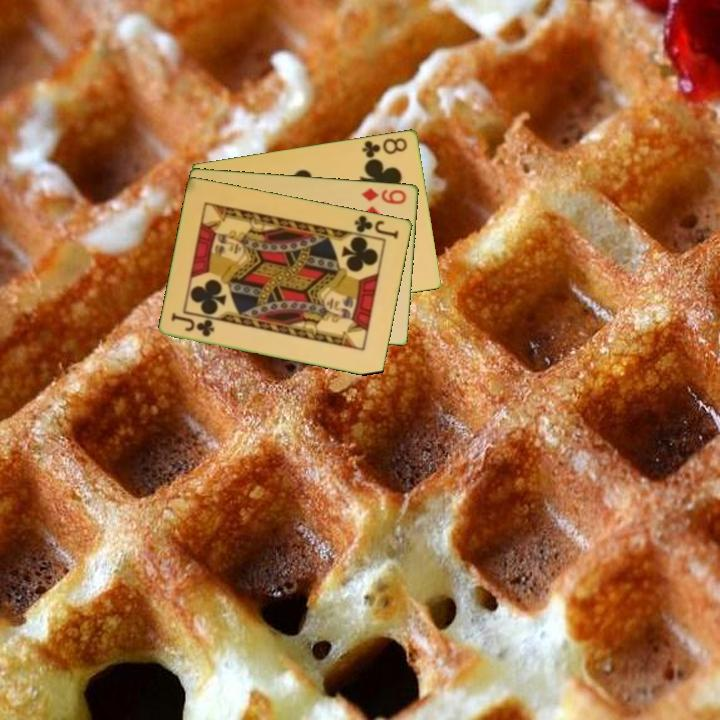8c: (359, 134, 410, 160)
9d: (358, 184, 409, 207)
Jc: (347, 211, 402, 241), (168, 310, 218, 340)
